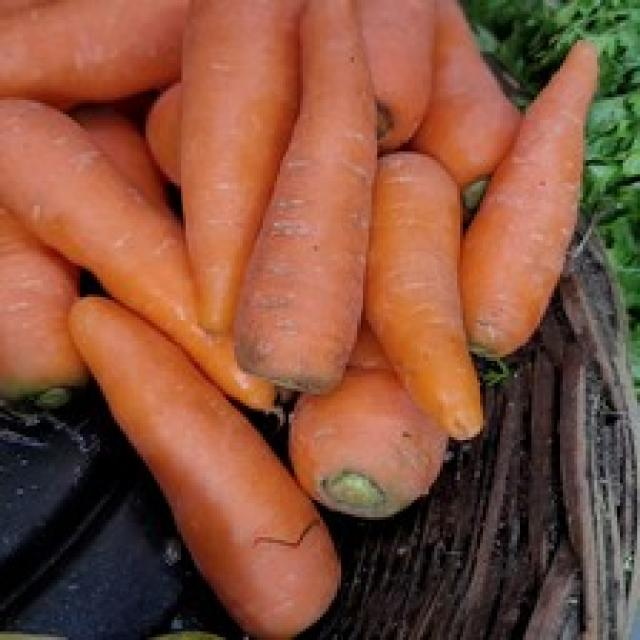Fresh_Carrot: (59, 287, 436, 640), (0, 81, 289, 418), (339, 139, 508, 434), (252, 0, 382, 380), (466, 42, 606, 368), (197, 0, 300, 355)
